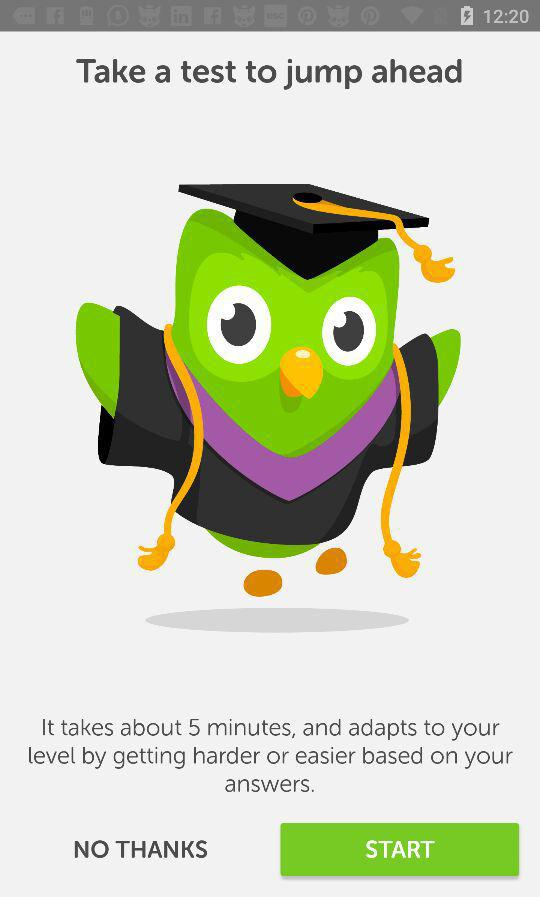Image: (76, 183, 463, 634)
Text: (28, 718, 514, 793), (76, 58, 462, 91), (75, 840, 208, 859)
TextButton: (280, 822, 520, 877)
UpperTaskBar: (1, 1, 540, 33)
